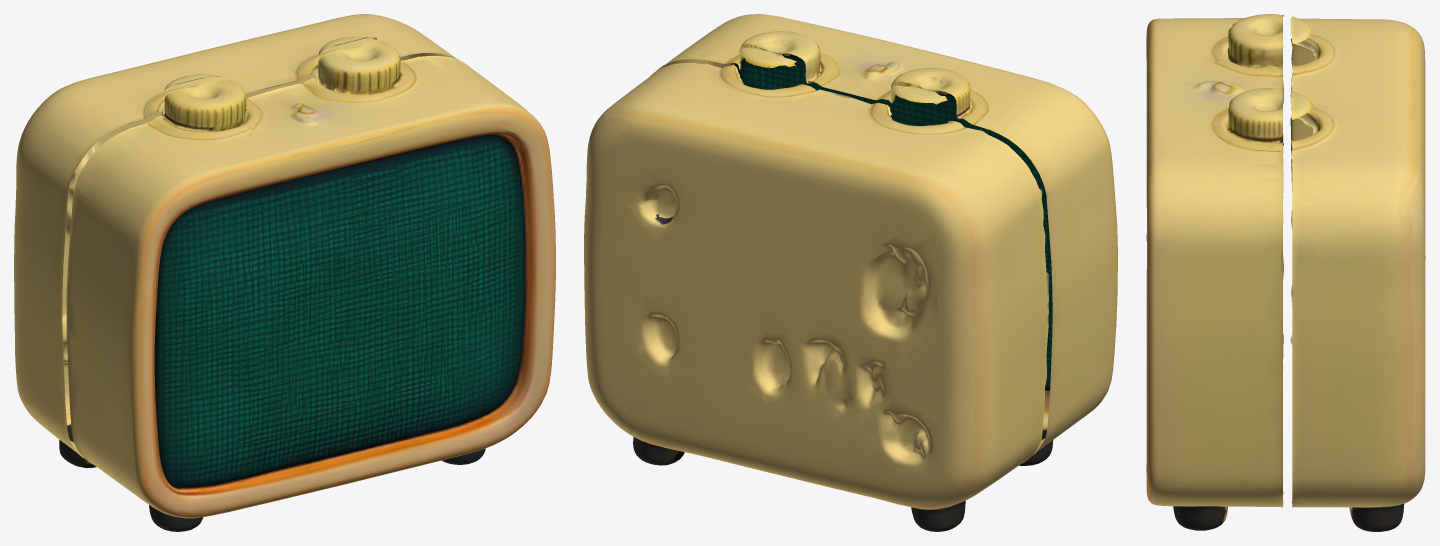
File: speaker.glb
3 renders of one model, left to right at view 1: azimuth 30°, elevation 25°; view 2: azimuth 150°, elevation 25°; view 3: azimuth 270°, elevation 25°, orthographic. The views are drawn at different scales.
Parts seen in each view (by area): view 1: textured; view 2: textured; view 3: textured.
Part boxes in pixels (x1=…): textured: x1=14, y1=14, x2=555, y2=531; textured: x1=584, y1=14, x2=1117, y2=531; textured: x1=1146, y1=14, x2=1425, y2=531.
Bounding box in the file's own units: 0.43 × 0.3876 × 0.2479.
Materials: 1 (1 with a texture image).
